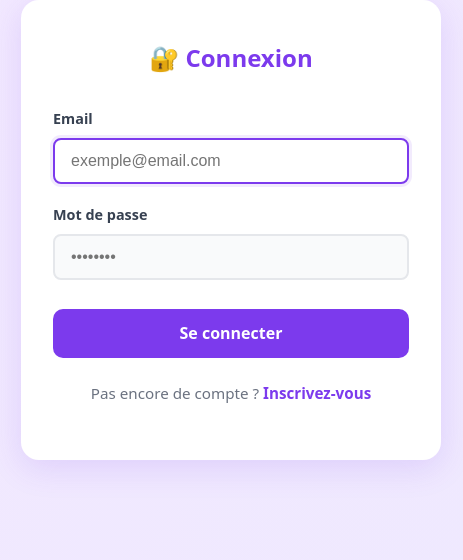
Test: Connexion — Validation des champs › doit afficher "Email ou mot de passe incorrect" avec de mauvais identifiants
The image size is (463, 560).
Type "inconnu@test.com" into the field with placeholder "exemple@email.com".
click(231, 161); type("inconnu@test.com")  # box [53, 138, 409, 184]
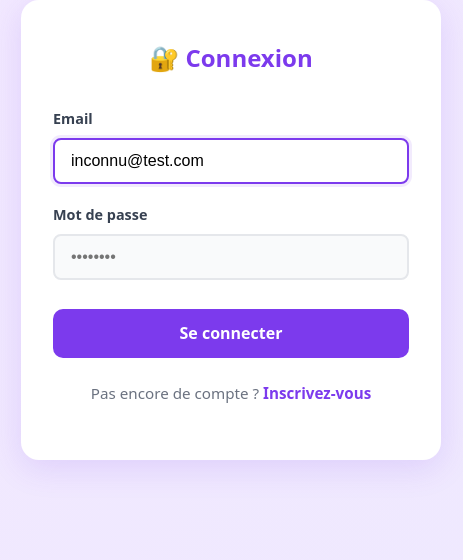
Type "Azerty1!" into the password field with placeholder "••••••••".
click(231, 257); type("Azerty1!")  # box [53, 234, 409, 280]
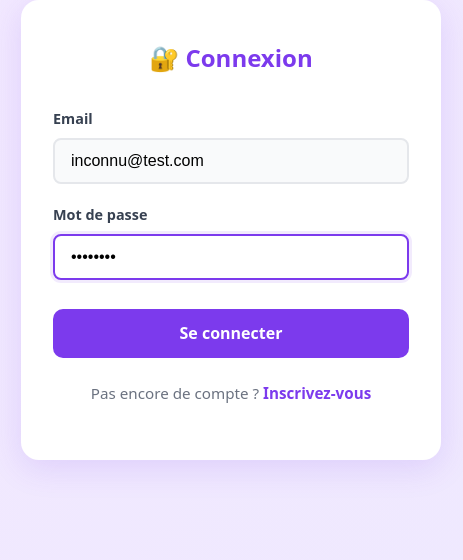
Click the button "Se connecter".
click(231, 333)  # box [53, 309, 409, 358]
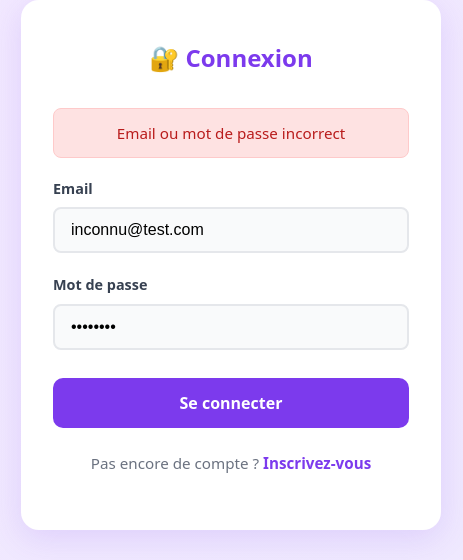
Expected: the text "Email ou mot de passe incorrect" is shown, [53, 108, 409, 158]
